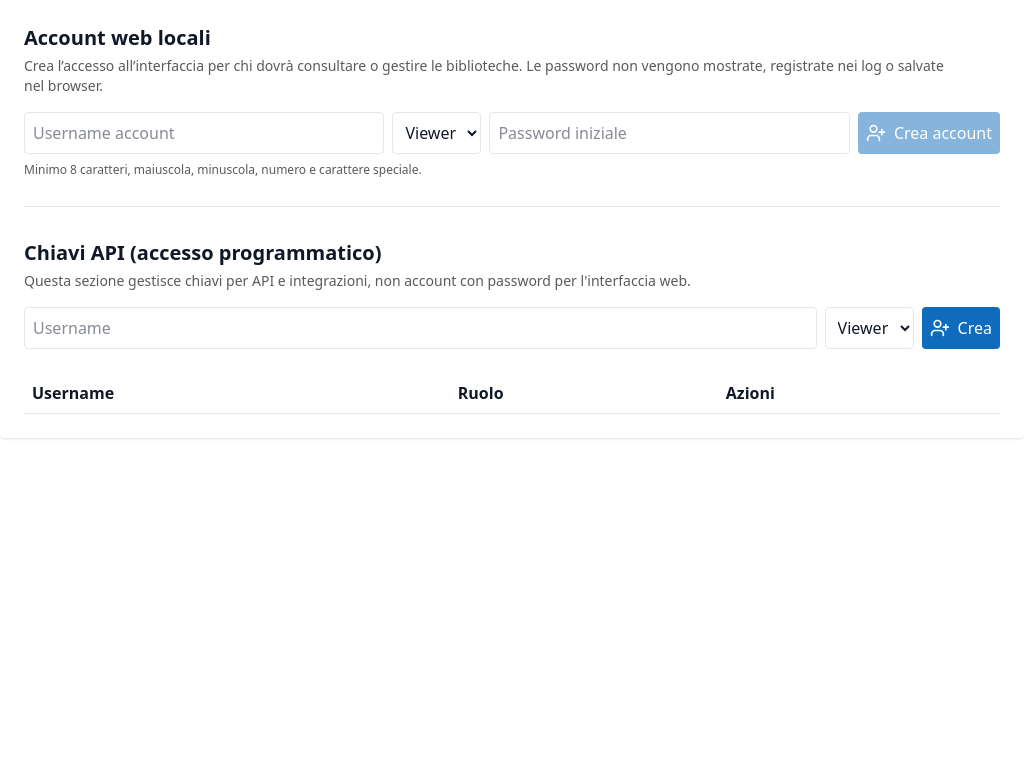
Test: UserManagement › creates a local web account without exposing its password again
Step 1. Type "maria" into the field with placeholder "Username account" → (204, 133), box [24, 112, 384, 154]
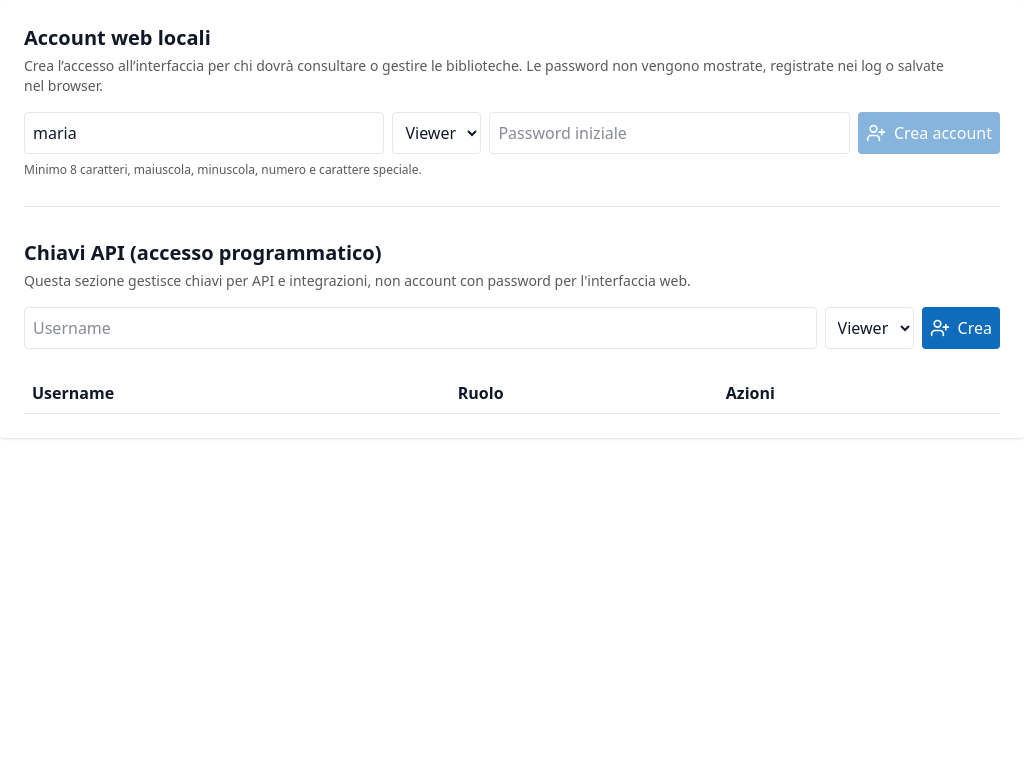
Step 2. Type "StrongUser!123" into the password field named "Password account locale" → (670, 133), box [489, 112, 850, 154]
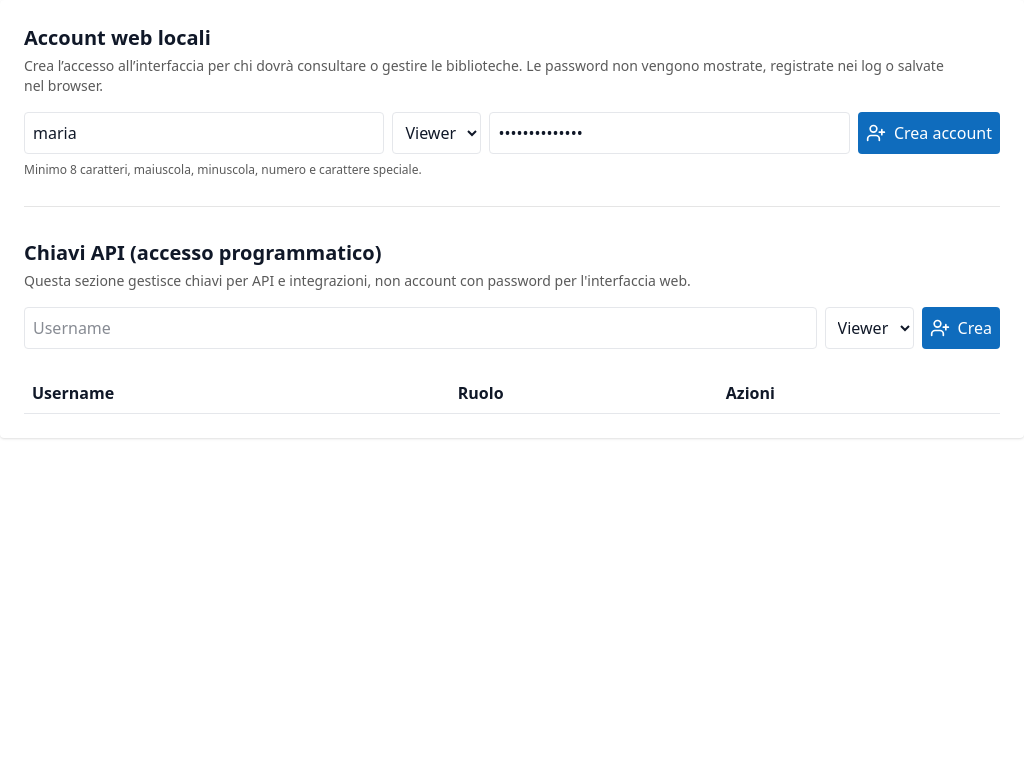
Step 3. Click the button "Crea account" → (929, 133), box [858, 112, 1000, 154]
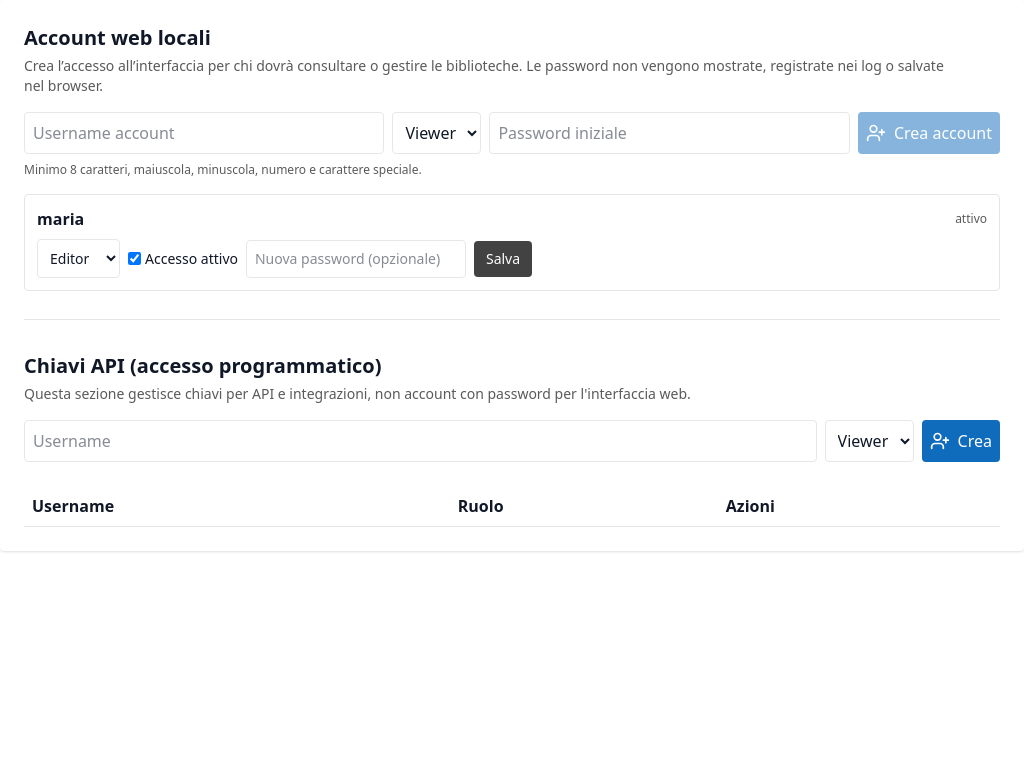
Expected: the dropdown named "Ruolo di maria" shows "Editor", [37, 239, 120, 278]
